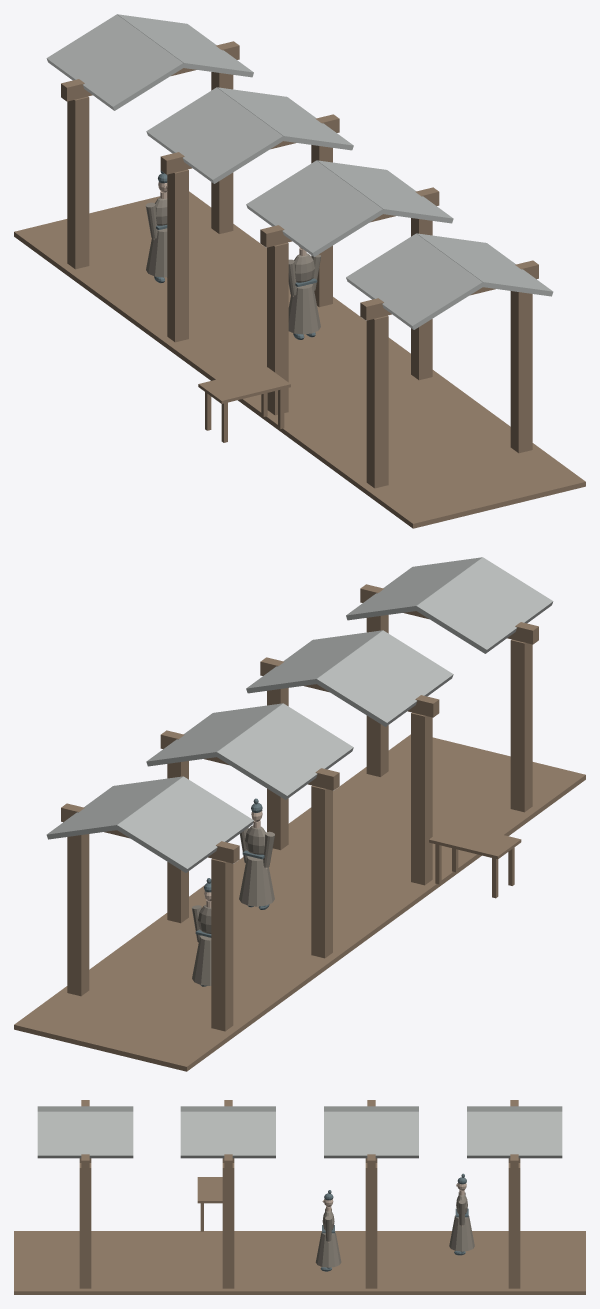
The model's file is EP02-SET03.glb.
3 renders of one model, top to bottom at view 1: azimuth 30°, elevation 25°; view 2: azimuth 150°, elevation 25°; view 3: azimuth 270°, elevation 25°, orthographic. The views are drawn at different scales.
Parts seen in each view (by area): view 1: floor (×4), roof_left (×4), column (×8), roof_right (×4), beam (×4), robe_skirt (×2), tabletop; view 2: floor (×4), roof_left (×4), column (×8), roof_right (×4), beam (×4), robe_skirt (×2), tabletop; view 3: floor (×4), roof_right (×4), column (×4), roof_left (×4), robe_skirt (×2), tabletop.
Boxes of the visible parts, x1,y1,x2,y2 form: floor (×4): (14, 191, 585, 528); roof_left (×4): (46, 14, 483, 329); column (×8): (67, 72, 532, 488); roof_right (×4): (117, 14, 553, 296); beam (×4): (61, 41, 538, 320); robe_skirt (×2): (146, 228, 320, 334); tabletop: (198, 367, 290, 403); floor (×4): (14, 734, 585, 1071); roof_left (×4): (116, 557, 553, 872); column (×8): (67, 615, 532, 1031); roof_right (×4): (46, 557, 482, 839); beam (×4): (61, 584, 538, 863); robe_skirt (×2): (192, 856, 274, 985); tabletop: (429, 822, 521, 859); floor (×4): (14, 1231, 585, 1294); roof_right (×4): (37, 1111, 562, 1158); column (×4): (79, 1163, 520, 1288); roof_left (×4): (37, 1106, 562, 1111); robe_skirt (×2): (315, 1215, 474, 1267); tabletop: (197, 1177, 222, 1203).
Size of the model in its own units: 4.1 by 3.54 by 12.
